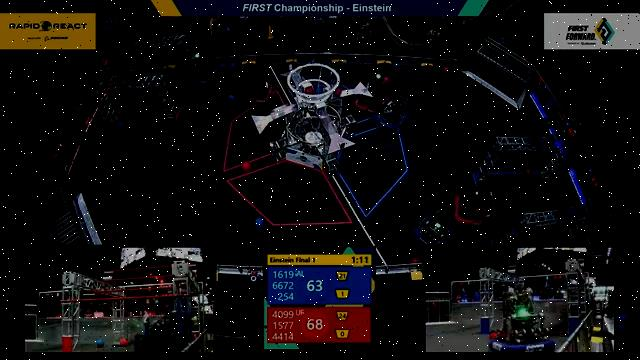Robot: (409, 206, 452, 249), (180, 47, 222, 89), (451, 188, 493, 230), (356, 72, 390, 117), (376, 94, 411, 134), (242, 70, 277, 108)
